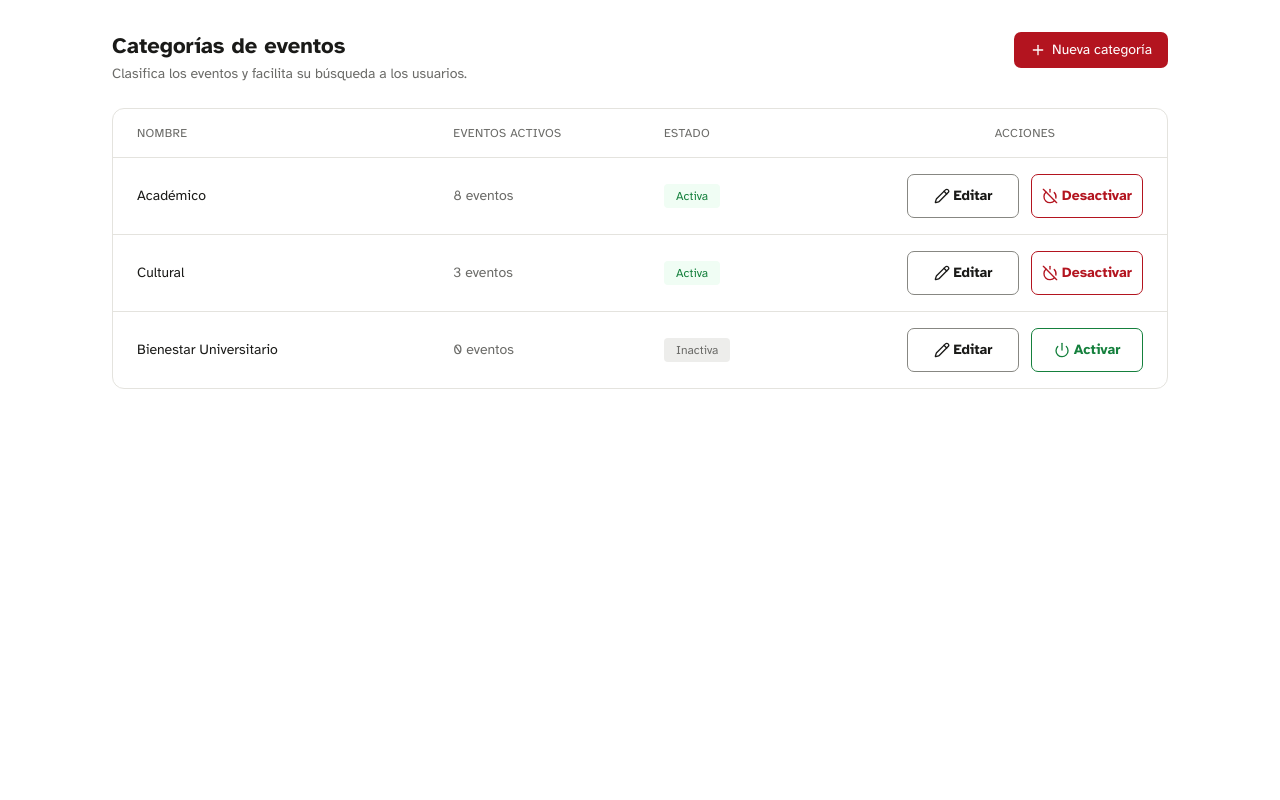
it: GestionCategorias (HU-04) › edita el nombre sin enviar el estado
The image size is (1280, 800).
Expected: the column heading "Cultural" is shown, top-left (113, 234), bottom-right (429, 312)
Click the button with aria-label "Editar categoría Cultural" at [963, 273], box top-left (907, 251), bottom-right (1019, 295)
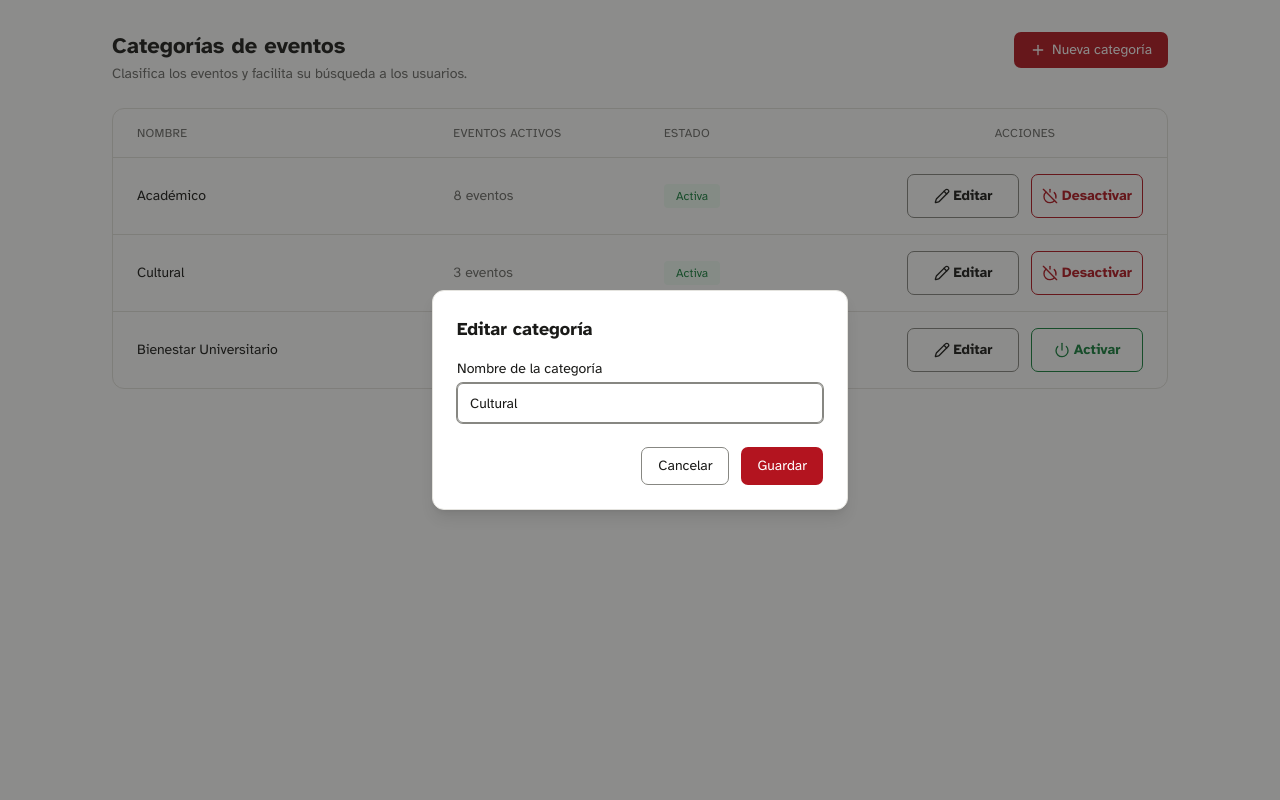
Expected: the field labelled "Nombre de la categoría" holds "Cultural"
Replace the text in the field labelled "Nombre de la categoría" with "Arte" at [640, 403], box top-left (457, 383), bottom-right (823, 423)
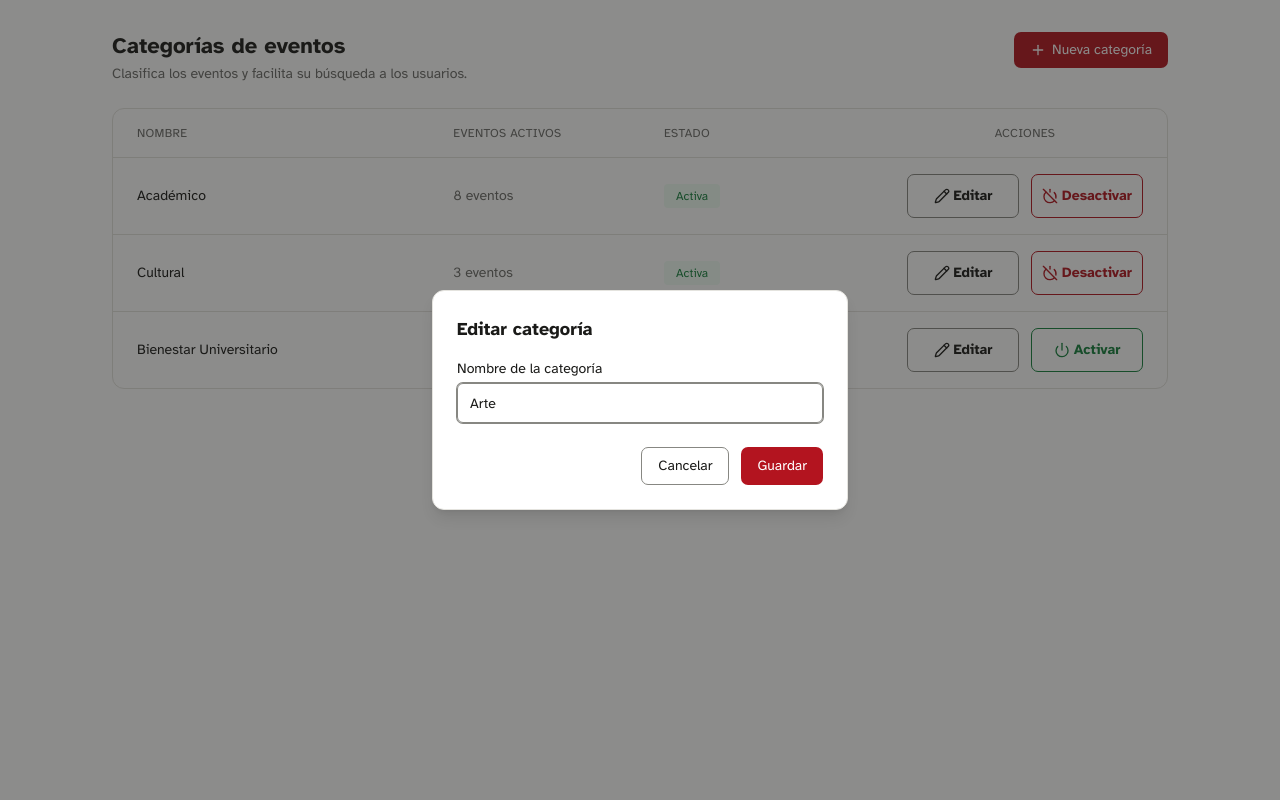
Click the button "Guardar" at [782, 466], box top-left (741, 447), bottom-right (823, 485)
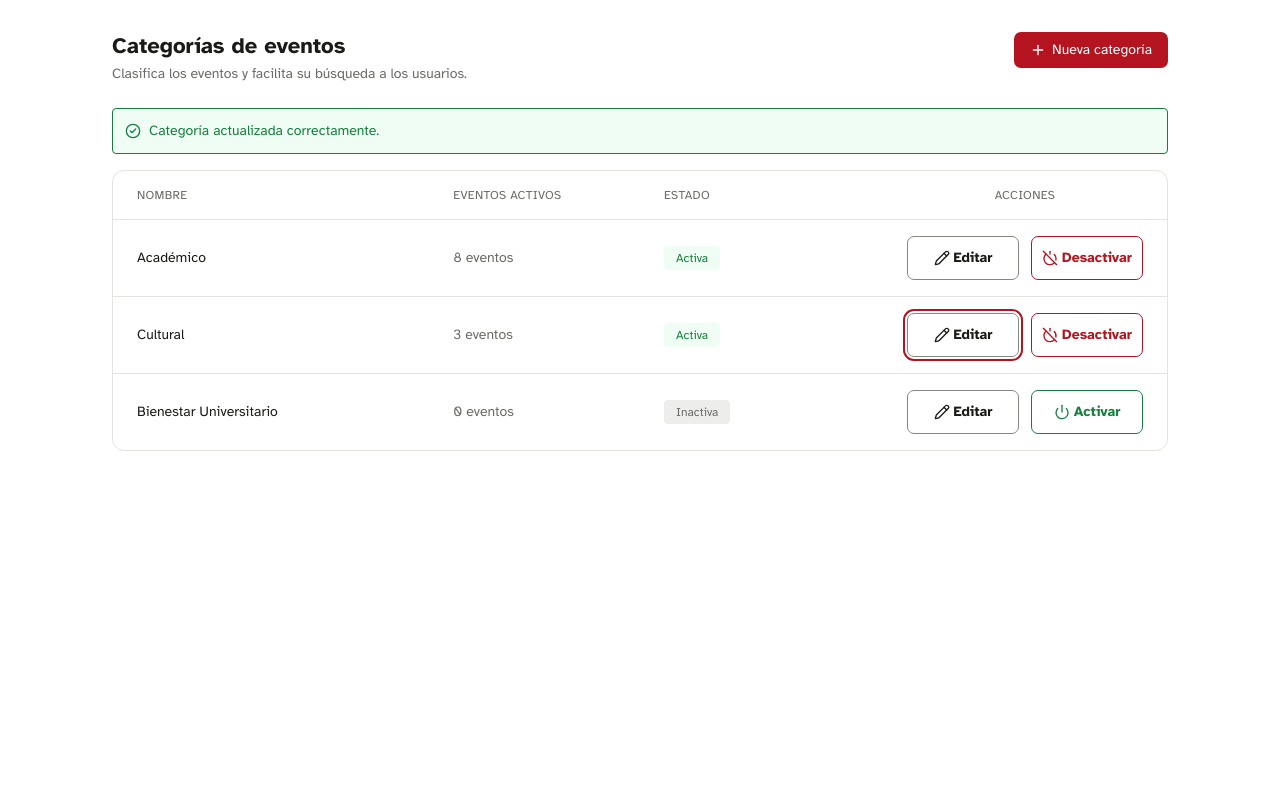
Expected: the message reads "Categoría actualizada correctamente.", top-left (149, 122), bottom-right (379, 139)
